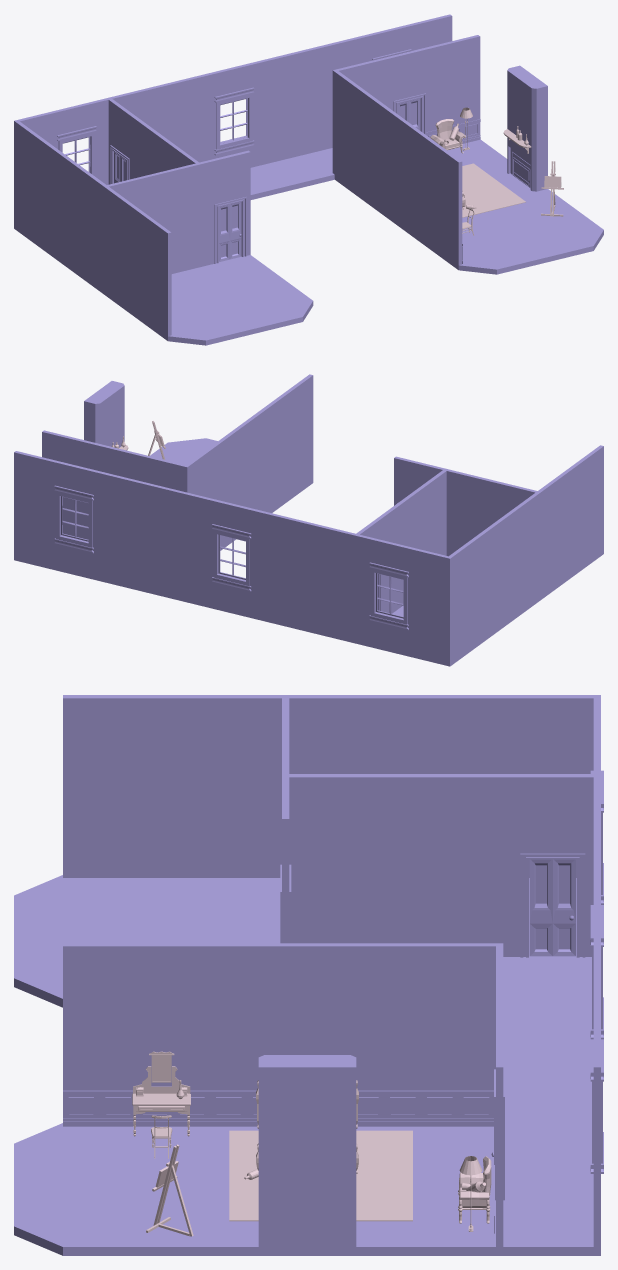
Rendered from Manor_BedRoom_updated.fbx.
3 views of the same model, one above another, from view 1: azimuth 30°, elevation 25°; view 2: azimuth 150°, elevation 25°; view 3: azimuth 270°, elevation 25° (orthographic). The views are drawn at different scales.
Parts seen in each view (by area): view 1: Cube.002, Cube.004, Cube.008, Cube.003, Cube.006, Cube.005, Cube.043, Cube.010, Cube.007, Cube.042, Cube.044, Cube.049 (+8 smaller); view 2: Cube.004, Cube.003, Cube.043, Cube.008, Cube.044, Cube.042, Cube.006, Cube.005, Cube.002, Cube.007, Cube.010, Cube.036 (+2 smaller); view 3: Cube.002, Cube.004, Cube.008, Cube.007, Cube.010, Cube.049, Cube.041, Cube.038, Cylinder.003, Cube.018, Cube.005, Cube.014 (+8 smaller).
Boxes of the visible parts, x1,y1,x2,y2 form: Cube.002: [14, 139, 603, 345]; Cube.004: [16, 121, 171, 335]; Cube.008: [332, 69, 462, 265]; Cube.003: [214, 33, 373, 167]; Cube.006: [107, 150, 250, 273]; Cube.005: [336, 35, 480, 132]; Cube.043: [93, 72, 216, 184]; Cube.010: [507, 65, 547, 191]; Cube.007: [108, 99, 198, 184]; Cube.042: [372, 14, 452, 57]; Cube.044: [14, 101, 94, 224]; Cube.049: [462, 163, 525, 217]; Cube.004: [449, 445, 603, 659]; Cube.003: [92, 470, 251, 612]; Cube.043: [250, 508, 373, 642]; Cube.008: [183, 374, 313, 545]; Cube.044: [371, 538, 452, 661]; Cube.042: [14, 451, 93, 574]; Cube.006: [394, 456, 537, 556]; Cube.005: [42, 430, 185, 539]; Cube.002: [14, 438, 603, 666]; Cube.007: [356, 470, 446, 613]; Cube.010: [84, 381, 124, 447]; Cube.036: [369, 562, 408, 630]; Cube.002: [14, 875, 600, 1255]; Cube.004: [63, 695, 593, 877]; Cube.008: [63, 943, 503, 1090]; Cube.007: [289, 774, 593, 956]; Cube.010: [258, 1055, 356, 1246]; Cube.049: [229, 1130, 412, 1221]; Cube.041: [63, 1090, 257, 1126]; Cube.038: [357, 1090, 493, 1126]; Cylinder.003: [529, 859, 575, 956]; Cube.018: [132, 1051, 190, 1136]; Cube.005: [496, 946, 503, 1246]; Cube.014: [520, 853, 585, 957].
Size of the model in its own units: 18 by 4.25 by 12.06.
